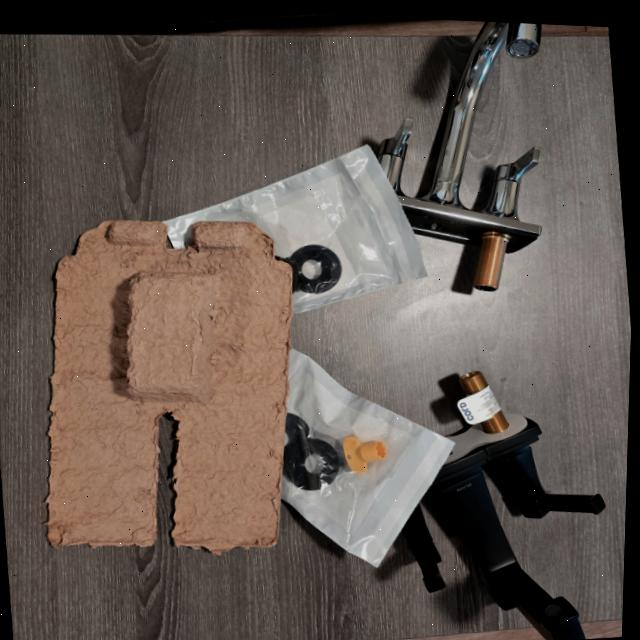10o: (378, 22, 541, 291)
12o: (281, 349, 453, 567)
13o: (163, 145, 426, 313)
9o: (431, 371, 604, 640), (403, 506, 445, 592)
